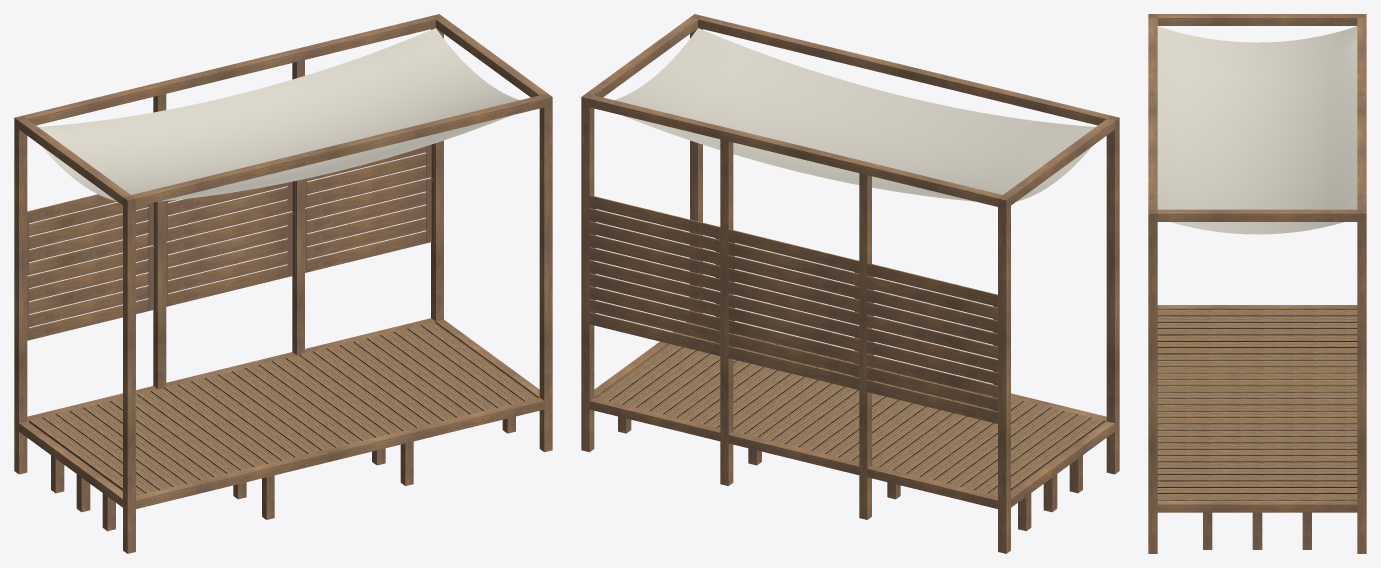
File: niwaterasconbi_w3900-D1800_naturalpine.fbx
3 views of the same model, side by side, from view 1: azimuth 30°, elevation 25°; view 2: azimuth 150°, elevation 25°; view 3: azimuth 270°, elevation 25° (orthographic). The views are drawn at different scales.
Visible parts, largest first — view 1: niwaterasconbi_w3900-D1350_lightwood2.001; view 2: niwaterasconbi_w3900-D1350_lightwood2.001; view 3: niwaterasconbi_w3900-D1350_lightwood2.001.
Part boxes in pixels (x1=…): niwaterasconbi_w3900-D1350_lightwood2.001: x1=14, y1=14, x2=552, y2=553; niwaterasconbi_w3900-D1350_lightwood2.001: x1=581, y1=14, x2=1119, y2=553; niwaterasconbi_w3900-D1350_lightwood2.001: x1=1148, y1=14, x2=1366, y2=553.
Size of the model in its own units: 390 by 310 by 180.
Materials: 5 (4 with a texture image).
